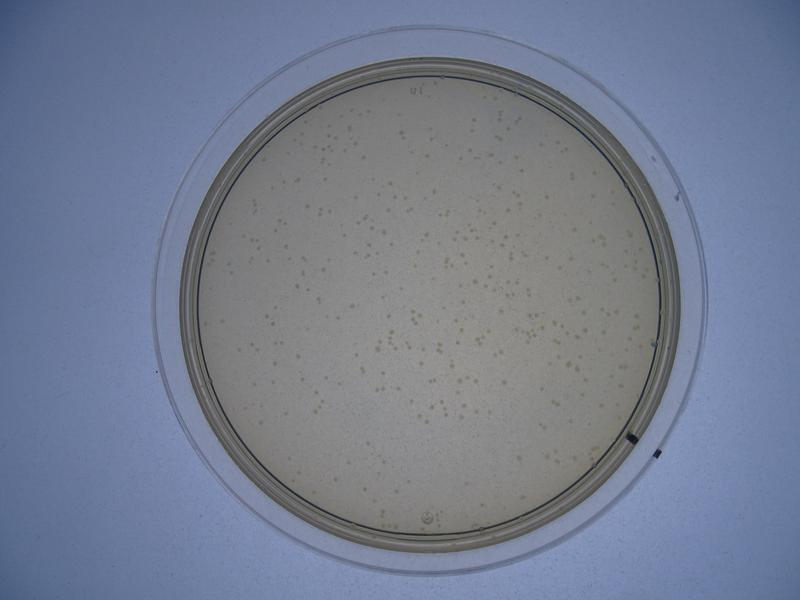colony: (510, 449, 525, 464), (468, 110, 480, 127), (497, 374, 511, 388), (344, 298, 358, 312), (319, 171, 332, 186), (289, 280, 302, 294), (216, 315, 228, 330), (359, 437, 374, 449), (385, 239, 398, 252), (279, 240, 292, 253), (541, 190, 554, 202), (568, 222, 580, 235), (255, 419, 268, 431), (429, 184, 441, 196), (293, 349, 304, 362), (458, 298, 469, 310), (588, 166, 599, 178), (376, 369, 389, 379), (358, 150, 368, 163), (555, 263, 565, 272)
